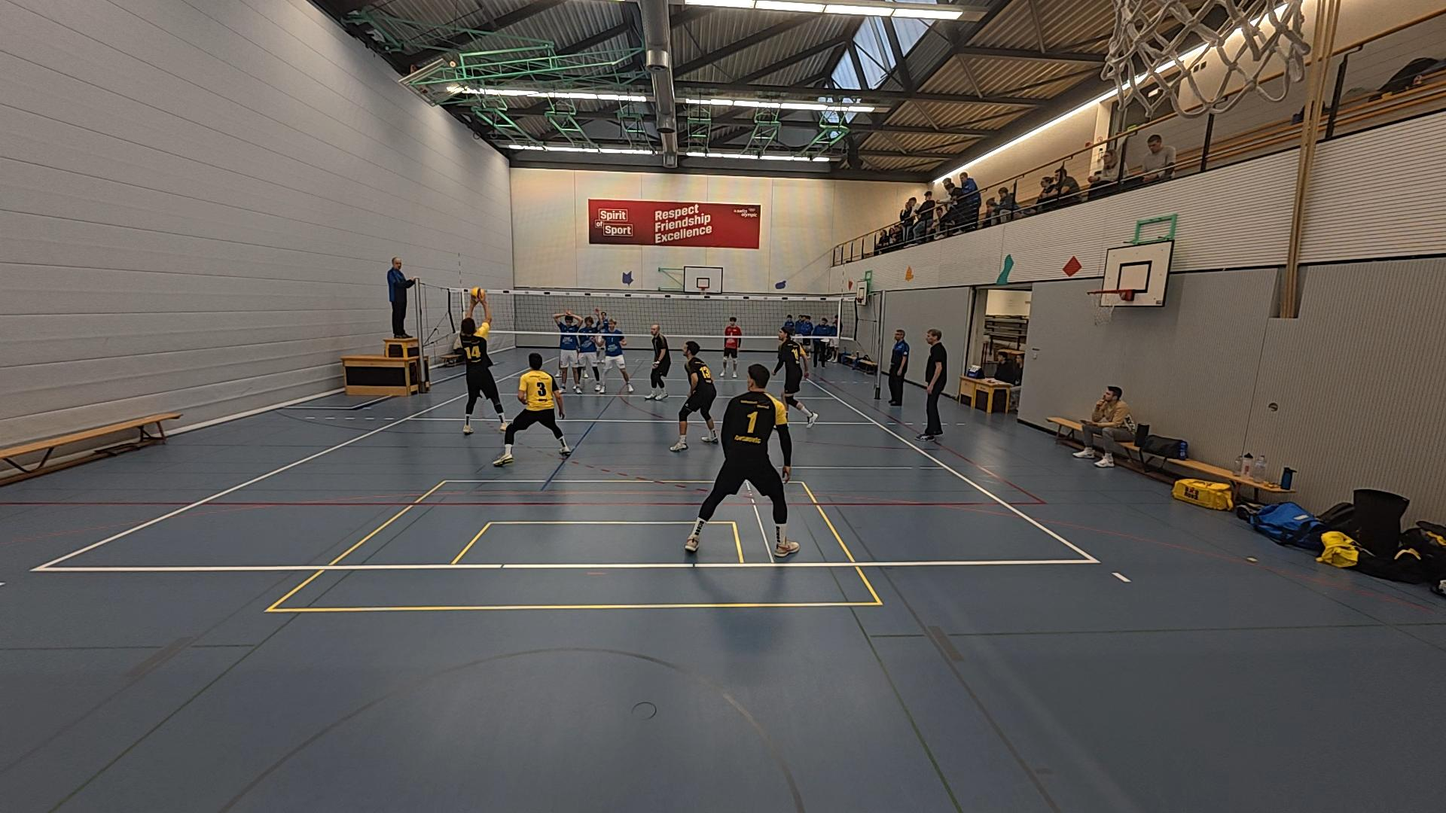Player: (685, 364, 799, 557), (493, 353, 572, 467), (669, 340, 718, 452), (772, 325, 816, 426), (599, 314, 633, 394), (551, 309, 584, 391), (581, 304, 609, 389), (645, 324, 671, 402), (717, 314, 743, 381)
Receive: (456, 277, 511, 438)
ball: (901, 264, 916, 281), (468, 287, 486, 300)
